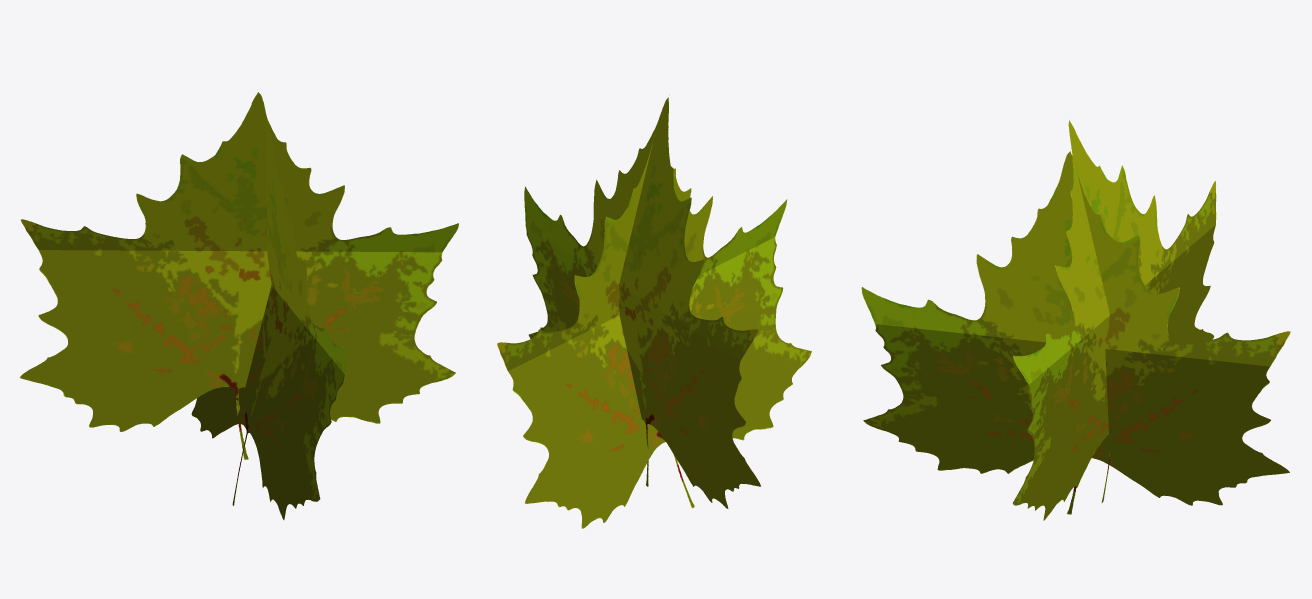
File: DestroyedPlaneTreeLeafParticles.fbx
The picture shows the model from 3 angles, left to right: view 1: azimuth 30°, elevation 25°; view 2: azimuth 150°, elevation 25°; view 3: azimuth 270°, elevation 25°; orthographic projection.
Visible parts, largest first — view 1: PlaneTreeLeafParticles; view 2: PlaneTreeLeafParticles; view 3: PlaneTreeLeafParticles.
Part boxes in pixels (x1,y1,x2,y2): PlaneTreeLeafParticles: [19, 89, 458, 519]; PlaneTreeLeafParticles: [497, 94, 811, 528]; PlaneTreeLeafParticles: [861, 120, 1290, 520].
Size of the model in its own units: 1.88 by 2.17 by 2.01.
